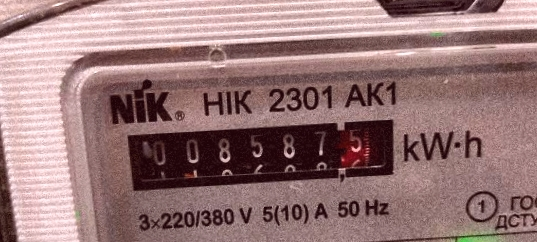0: (149, 136, 168, 166), (183, 135, 202, 164)
5: (347, 125, 366, 155), (247, 130, 266, 159)
7: (311, 126, 330, 157)
8: (279, 129, 298, 160), (215, 134, 233, 163)
screen: (108, 102, 414, 202)
